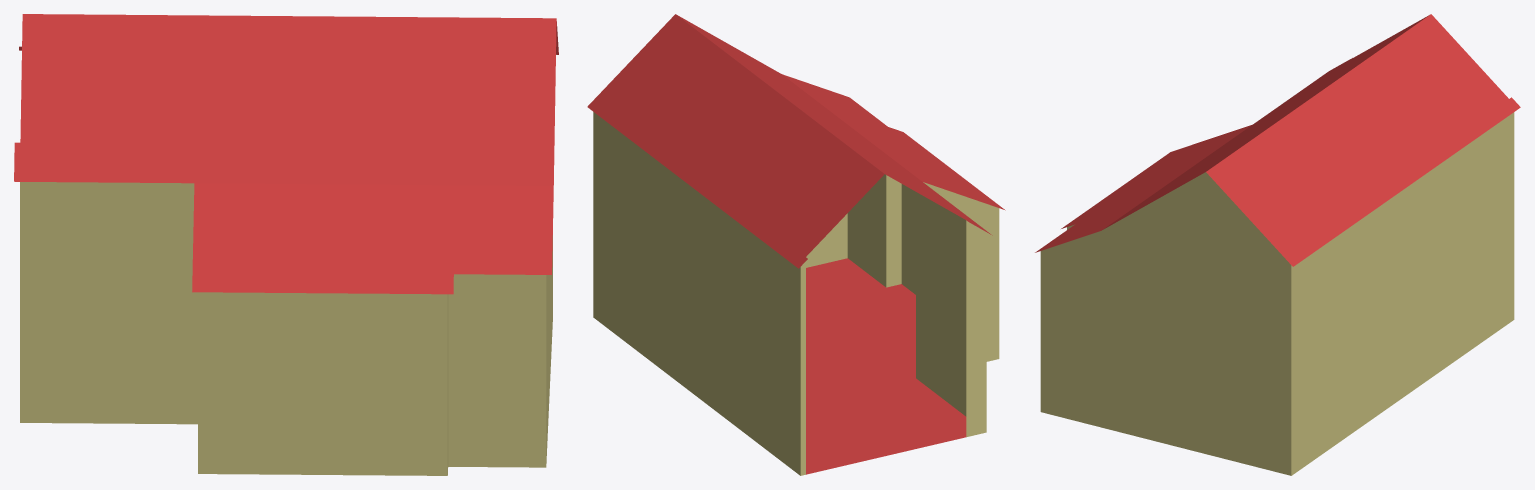
3 views of the same model, side by side, from view 1: azimuth 30°, elevation 25°; view 2: azimuth 150°, elevation 25°; view 3: azimuth 270°, elevation 25° (orthographic). The views are drawn at different scales.
Size of the model in its own units: 26.03 by 25.67 by 16.56.
